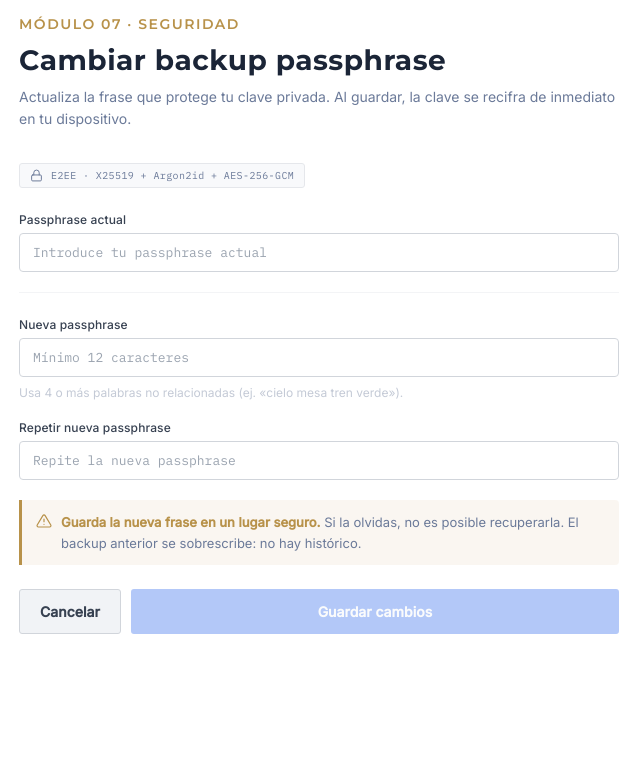
Test: SET-SEC-01 · guardar › si se agotaron los intentos, dice cuánto esperar
Type "tornillo ámbar cometa jilguero 42" into the password field labelled "Passphrase actual" at coordinates (319, 252), box x1=19 y1=233 x2=619 y2=272
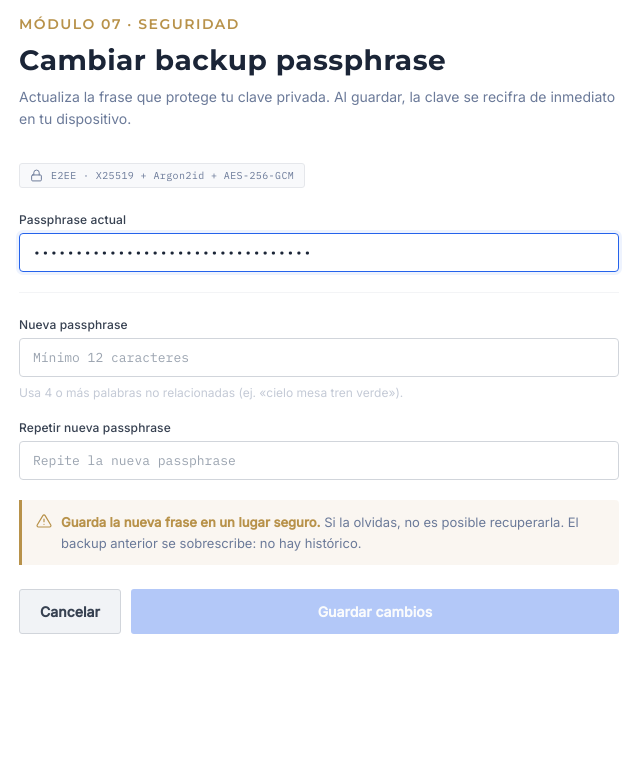
Type "correct-horse-battery-staple-2024" into the password field labelled "Nueva passphrase" at coordinates (319, 357), box x1=19 y1=338 x2=619 y2=377
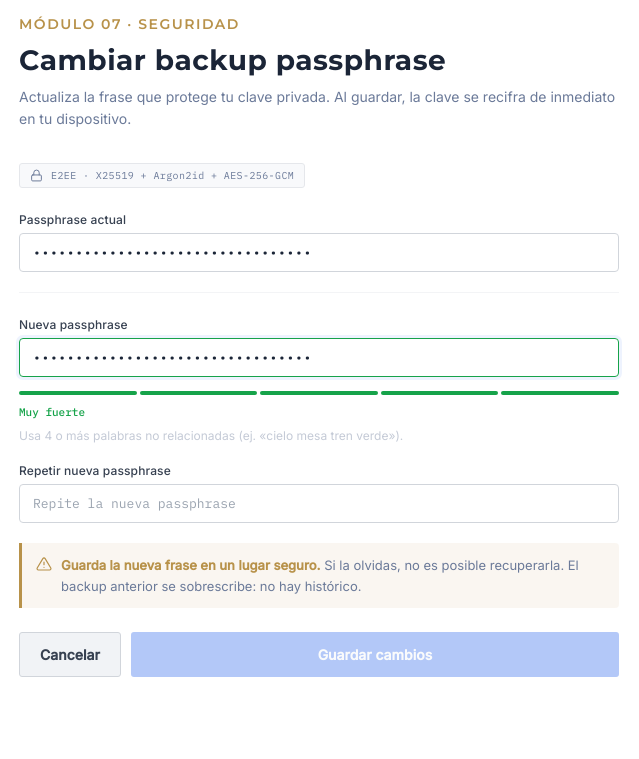
Type "correct-horse-battery-staple-2024" into the password field labelled "Repetir nueva passphrase" at coordinates (319, 503), box x1=19 y1=484 x2=619 y2=523
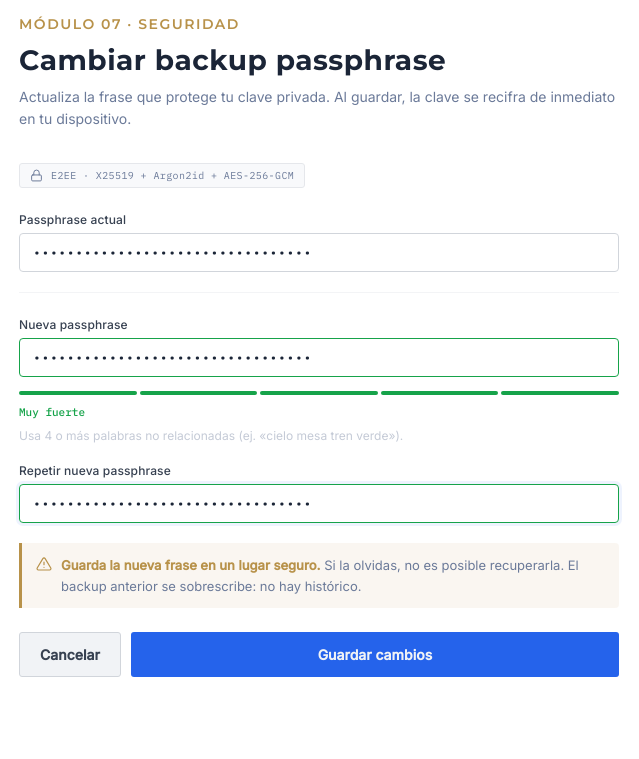
Now the button "Guardar cambios" is enabled
Click the button "Guardar cambios" at coordinates (375, 655), box x1=131 y1=632 x2=619 y2=677
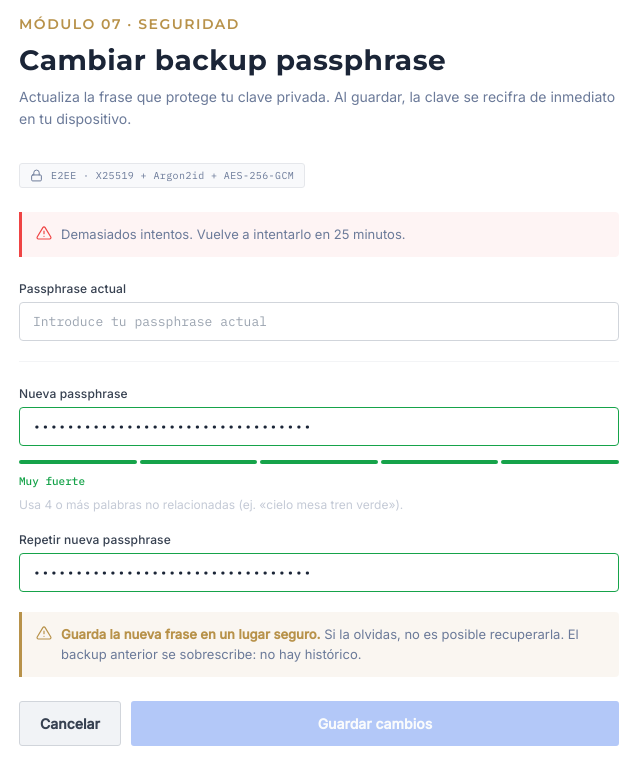
Now the text "Demasiados intentos. Vuelve a intentarlo en 25 minutos." is shown, box x1=61 y1=224 x2=406 y2=245
